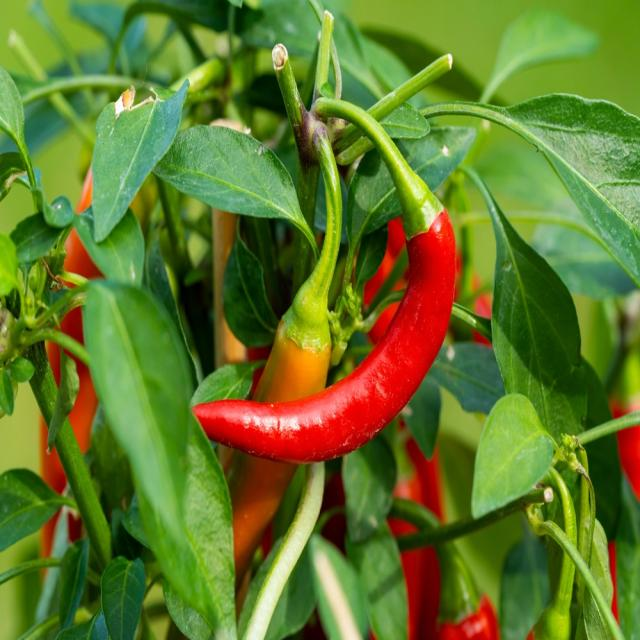Ripe: (194, 212, 455, 463), (227, 320, 330, 576), (438, 594, 500, 640), (618, 426, 640, 499)
